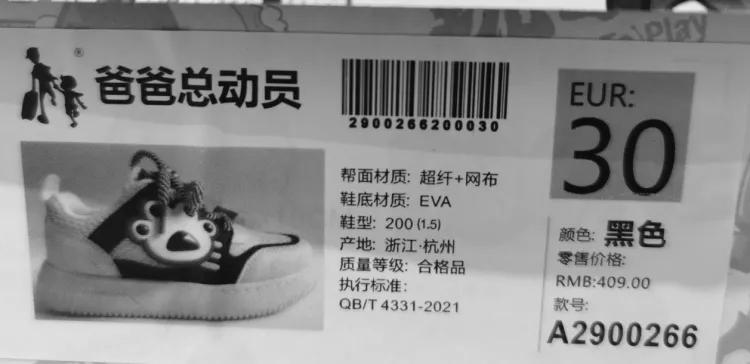Barcode: (331, 54, 512, 137)
